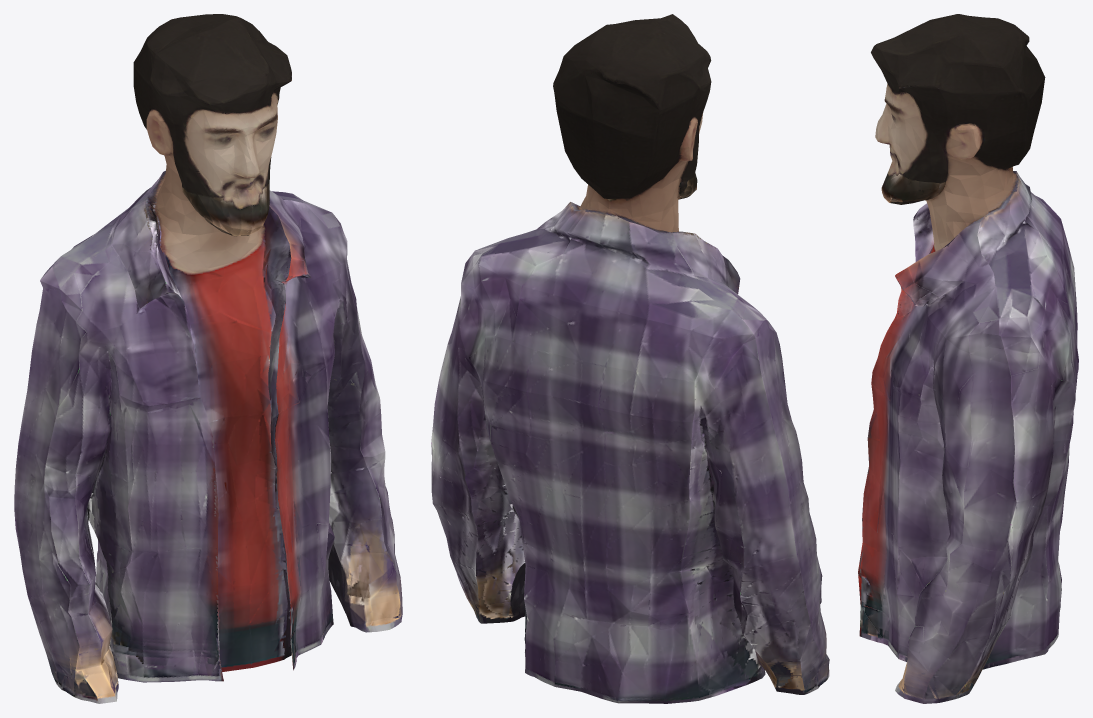
3 views of the same model, side by side, from view 1: azimuth 30°, elevation 25°; view 2: azimuth 150°, elevation 25°; view 3: azimuth 270°, elevation 25° (orthographic). The views are drawn at different scales.
Visible parts, largest first — view 1: geometry_0; view 2: geometry_0; view 3: geometry_0.
Boxes of the visible parts, <box> form: geometry_0: <box>14,14,402,703</box>; geometry_0: <box>431,14,829,703</box>; geometry_0: <box>858,14,1078,703</box>.
Size of the model in its own units: 0.5061 by 0.8284 by 0.2754.
Materials: 1 (1 with a texture image).
